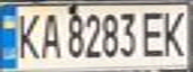2: (81, 9, 103, 60)
3: (118, 9, 142, 58)
8: (63, 7, 84, 60), (100, 9, 121, 58)
A: (36, 9, 63, 61)
E: (139, 7, 169, 58)
K: (157, 7, 193, 57), (12, 9, 45, 61)
